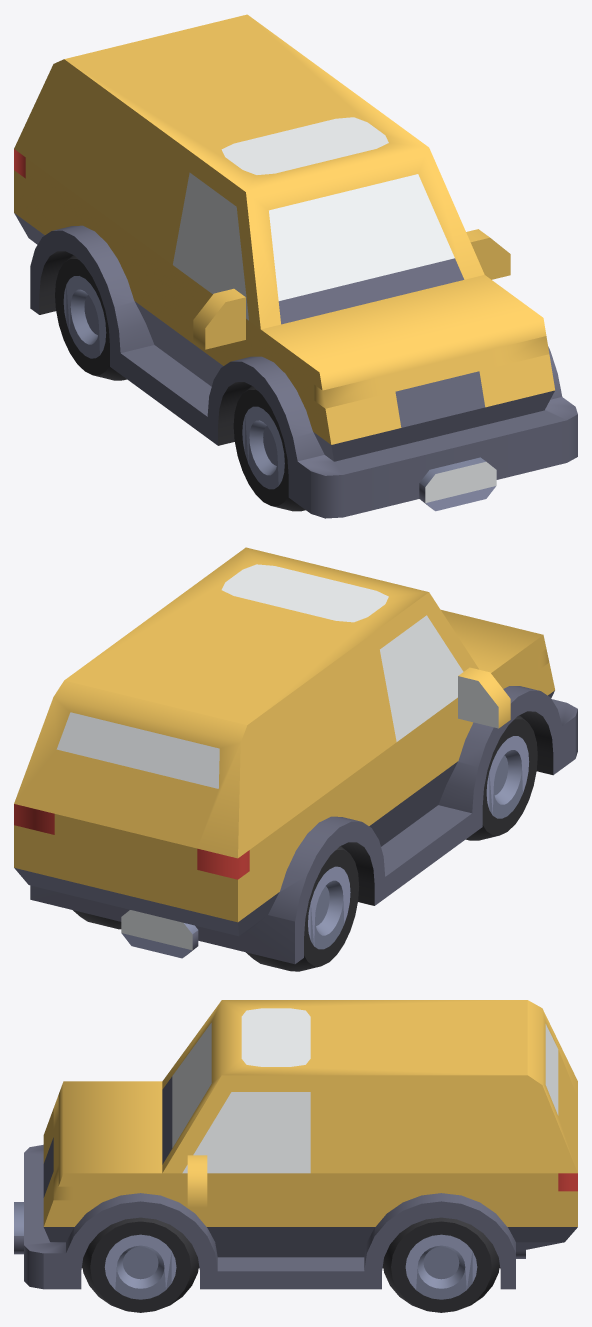
File: suv-luxury.glb
3 views of the same model, one above another, from view 1: azimuth 30°, elevation 25°; view 2: azimuth 150°, elevation 25°; view 3: azimuth 270°, elevation 25° (orthographic). The views are drawn at different scales.
Parts seen in each view (by area): view 1: body, wheel-front-right, wheel-back-right; view 2: body, wheel-back-right, wheel-front-right; view 3: body, wheel-back-left, wheel-front-left.
Part boxes in pixels (x1,y1,x2,y2): body: (14, 14, 577, 518); wheel-front-right: (233, 386, 305, 511); wheel-back-right: (55, 255, 126, 380); body: (14, 547, 577, 964); wheel-back-right: (246, 846, 359, 971); wheel-front-right: (466, 715, 537, 840); body: (14, 1000, 577, 1289); wheel-back-left: (383, 1217, 499, 1312); wheel-front-left: (82, 1217, 198, 1312).
Size of the model in its own units: 1.5 by 1.3 by 2.85.
